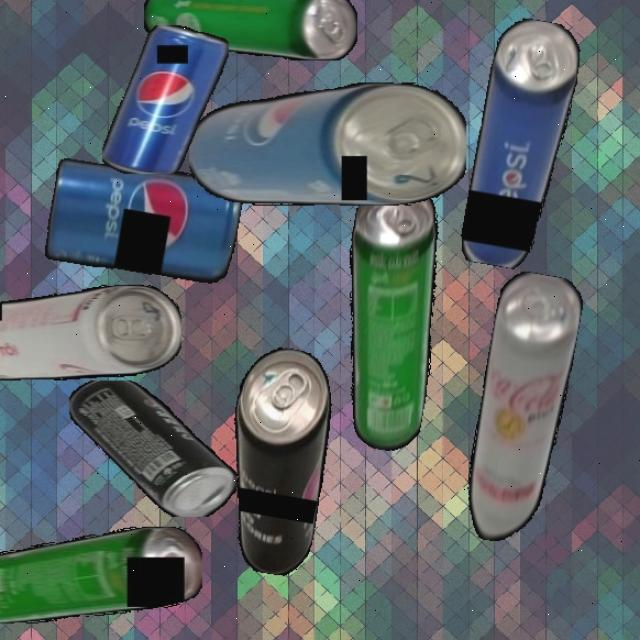debris: (316, 180, 461, 456), (458, 268, 586, 549), (188, 82, 466, 206), (458, 14, 586, 274), (209, 342, 344, 580), (42, 151, 245, 290), (70, 379, 236, 517), (0, 526, 202, 623), (102, 24, 229, 174), (0, 284, 181, 380), (142, 0, 357, 60)
